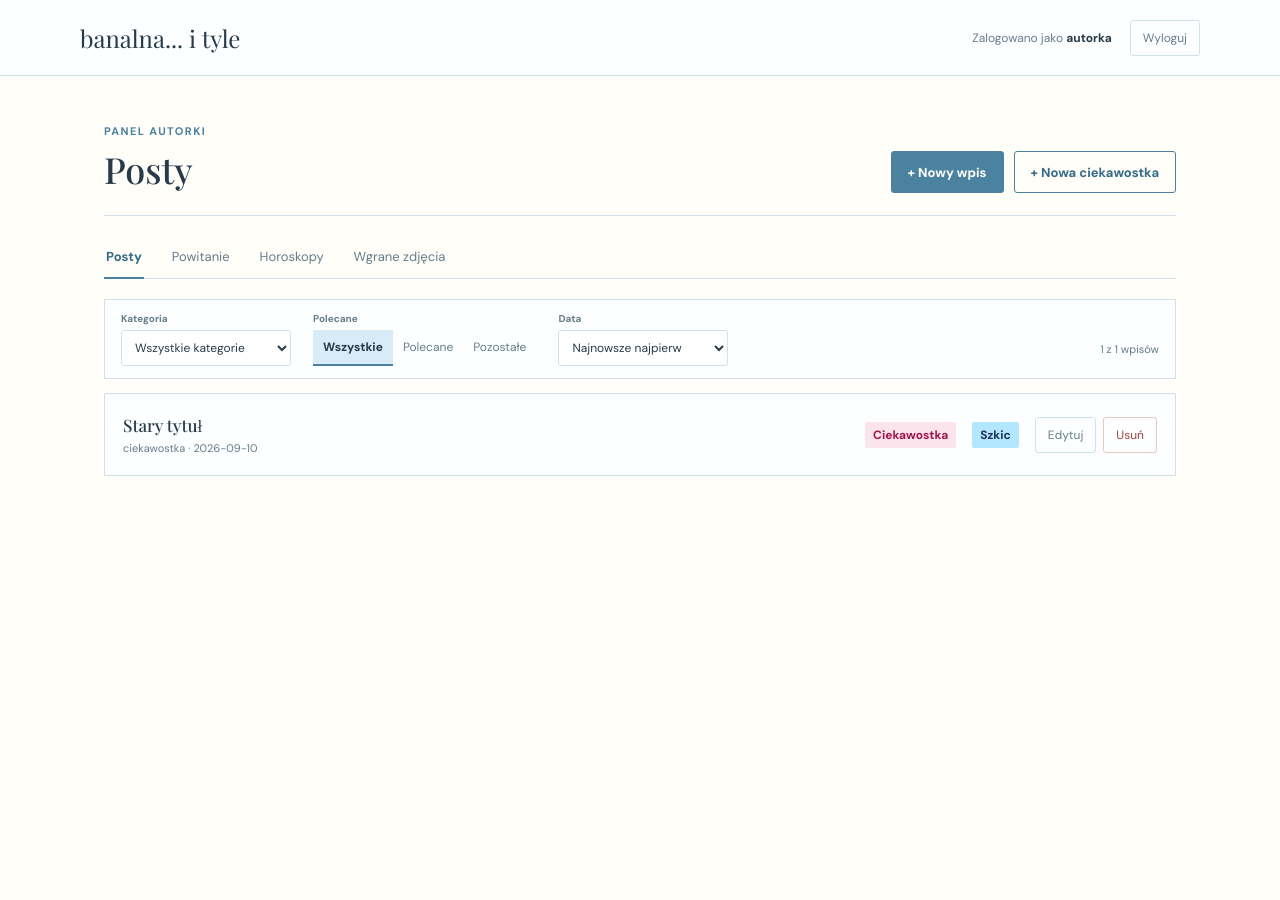
Test case: AuthorDashboard › updates the curiosity content and publication status
The image size is (1280, 900).
Click the button "Edytuj": (1066, 434) [1035,416,1096,452]
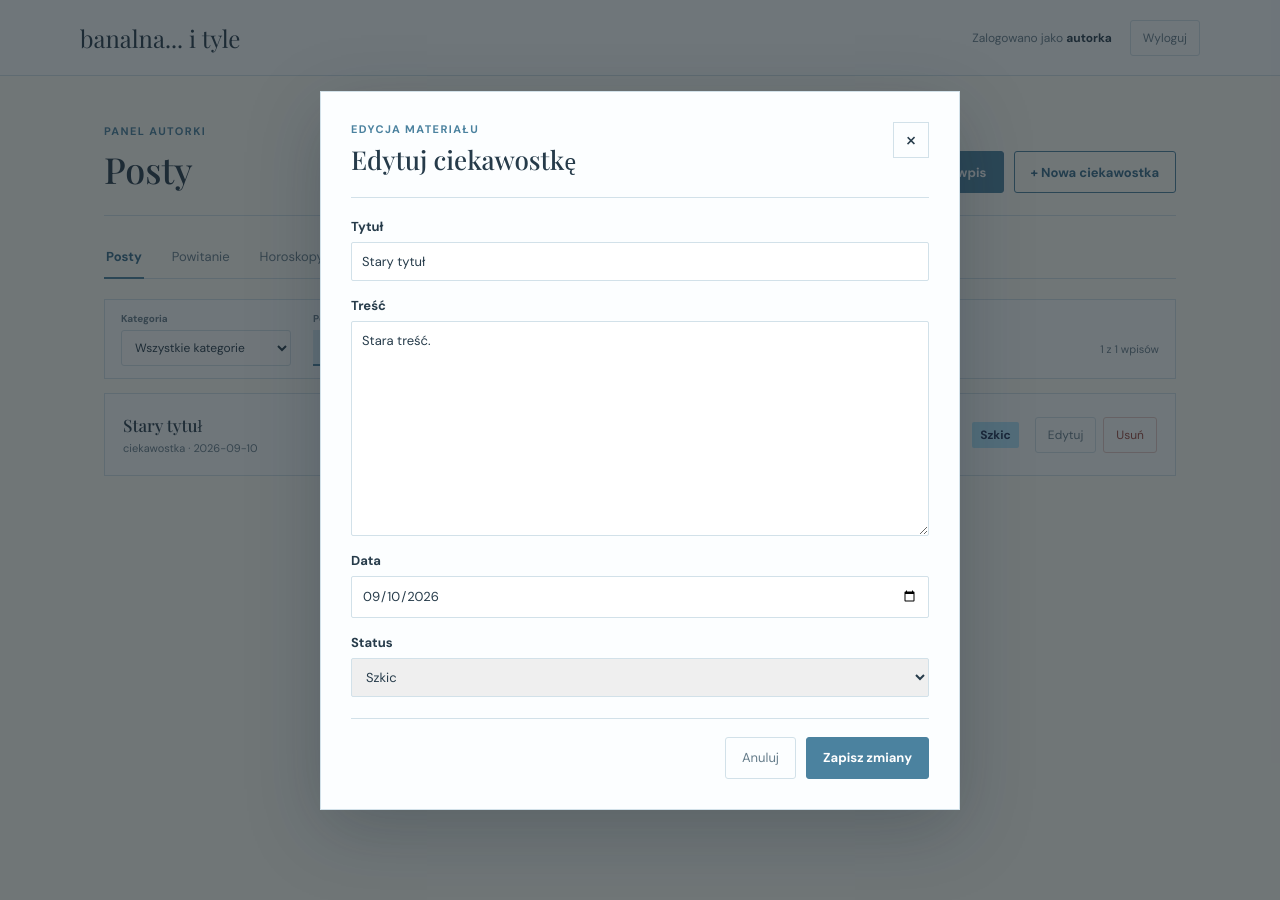
Replace the text in the field labelled "Tytuł" with "Nowy tytuł": (640, 261) [351,242,929,281]
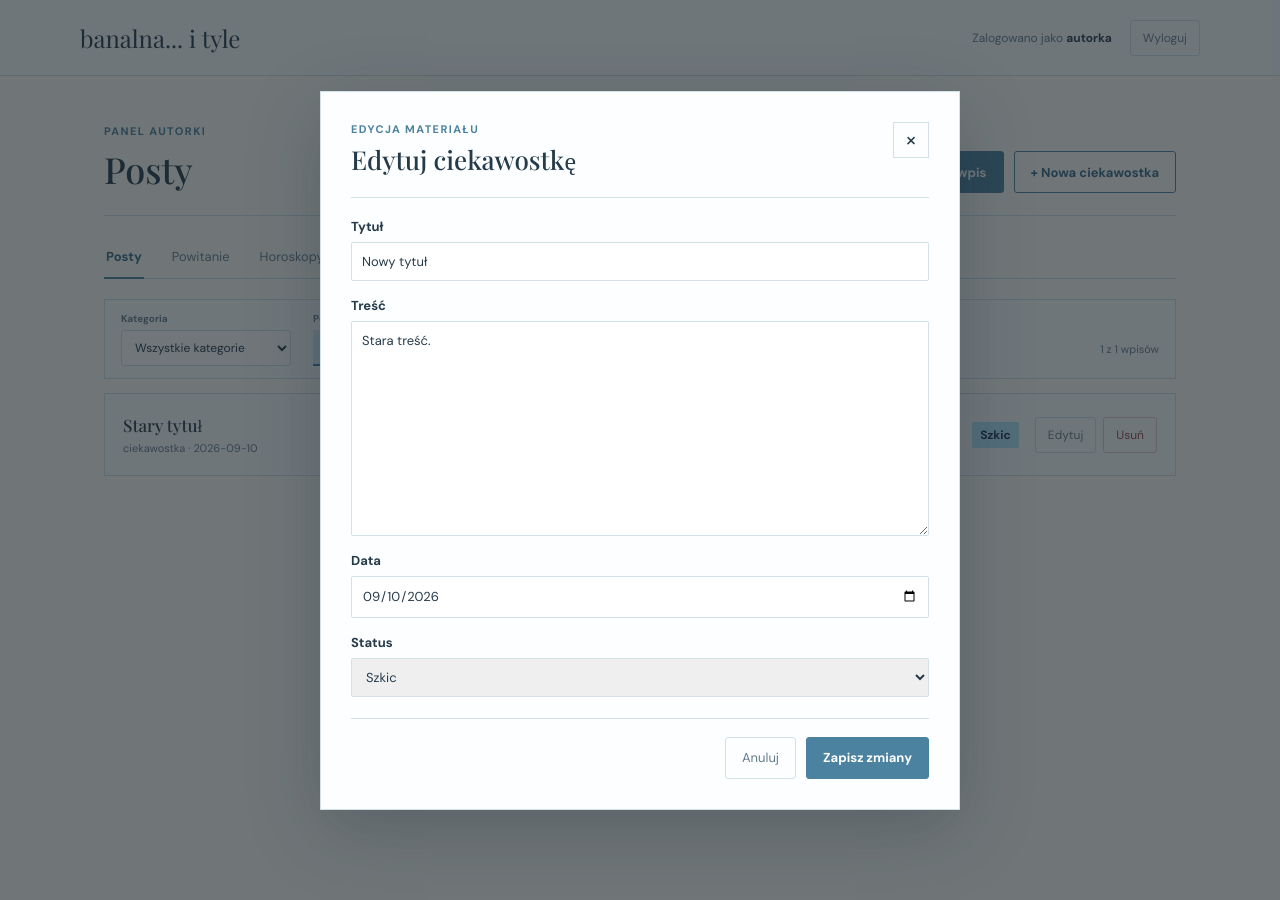
Replace the text in the text box labelled "Treść" with "Nowa treść.": (640, 428) [351,321,929,536]
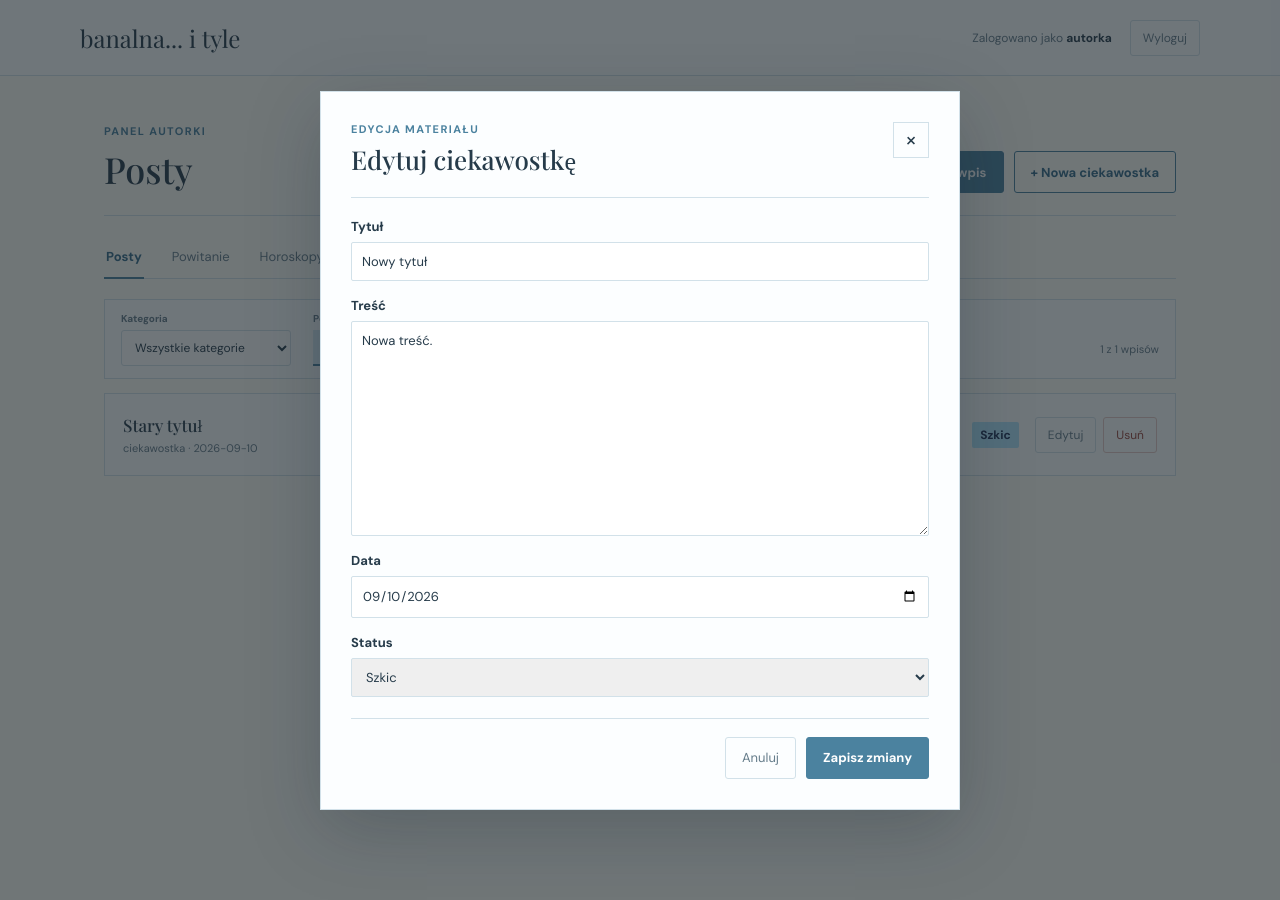
In the date field labelled "Data": (640, 597) [351,576,929,618], type "2026-09-12"
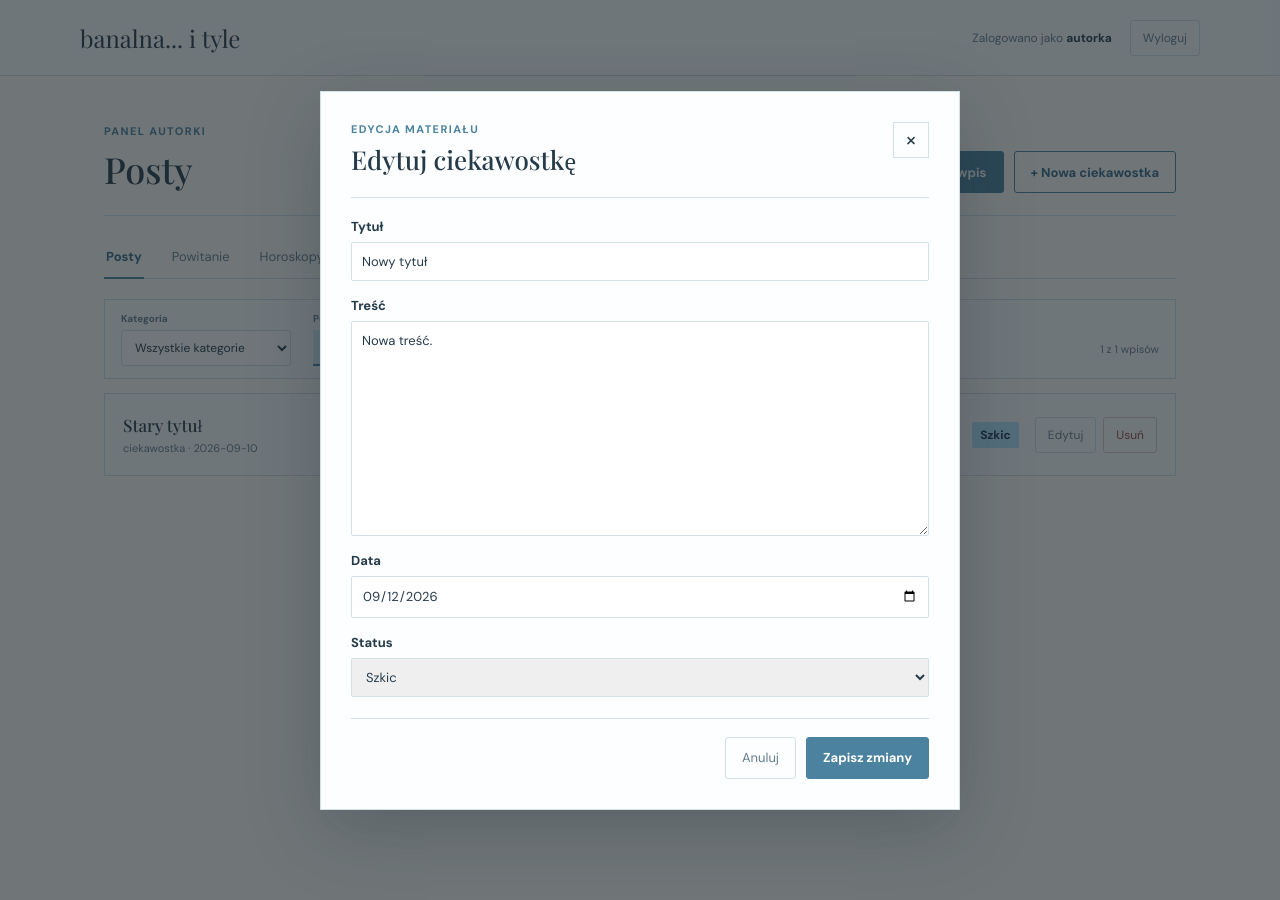
Select "Opublikowany" in the dropdown labelled "Status": (640, 677) [351,658,929,696]
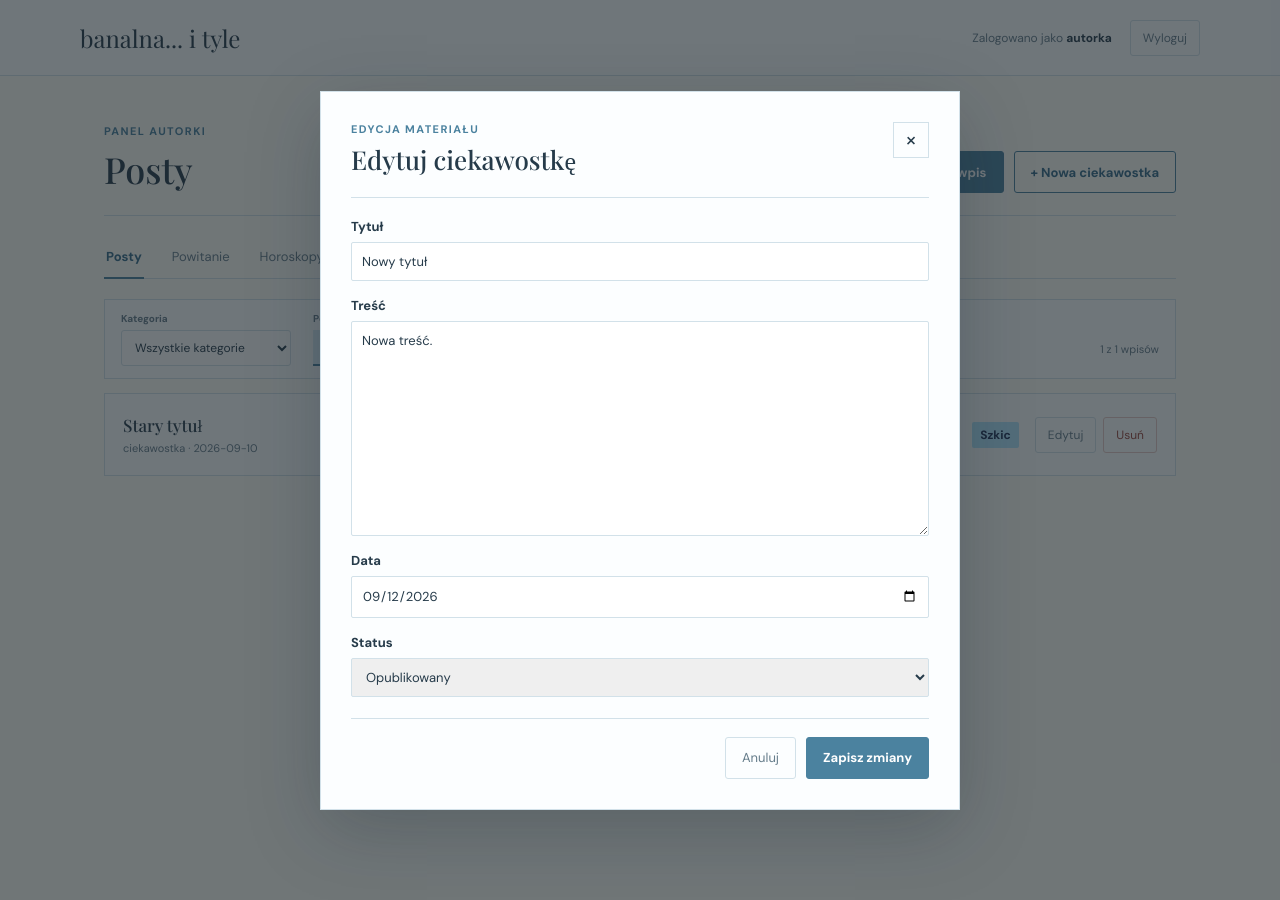
Click the button "Zapisz zmiany": (868, 758) [806,736,929,778]
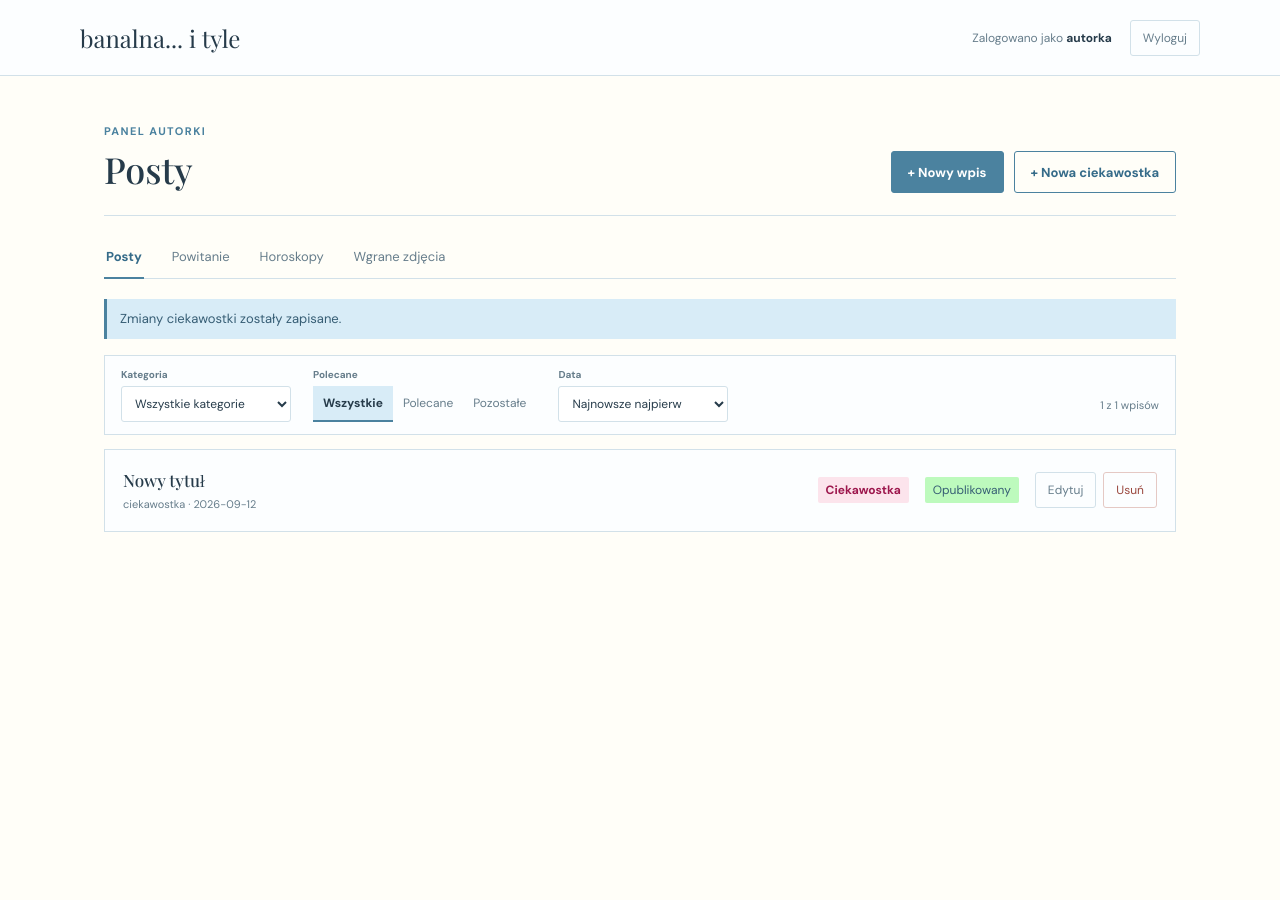
Expected: the text "Zmiany ciekawostki zostały zapisane." is shown, [104,299,1176,338]
Expected: the list named "Lista wpisów" shows "Nowy tytuł", [123,469,205,491]
Expected: the text "Opublikowany" is shown, [925,477,1019,503]
